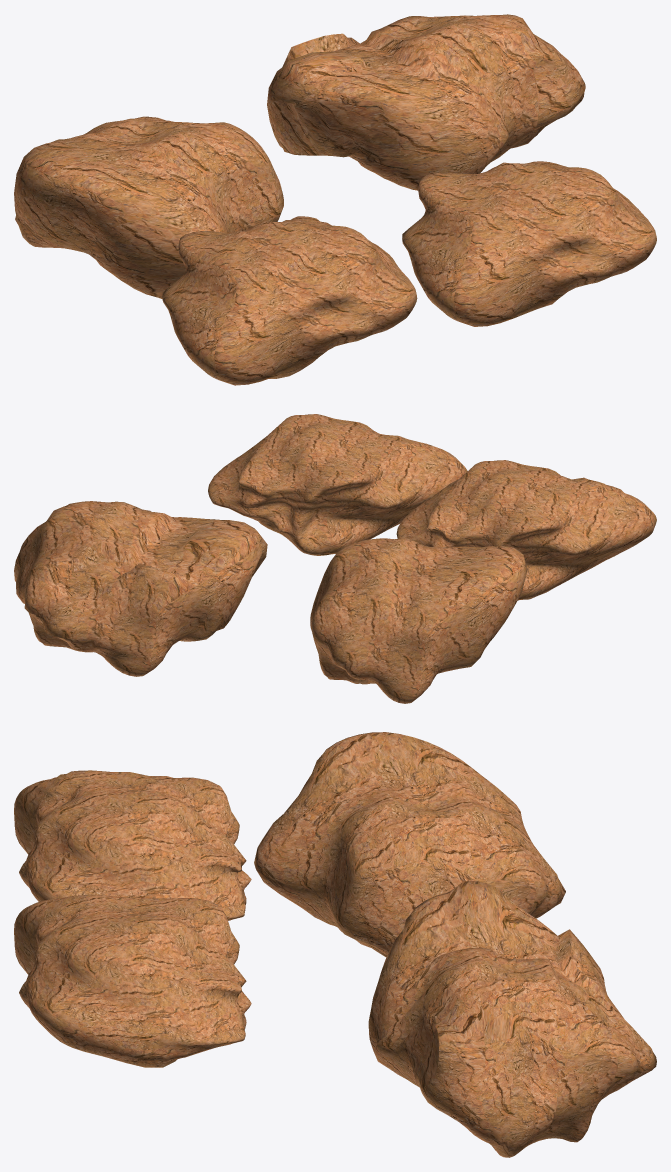
File: Rock.fbx
3 views of the same model, one above another, from view 1: azimuth 30°, elevation 25°; view 2: azimuth 150°, elevation 25°; view 3: azimuth 270°, elevation 25° (orthographic). The views are drawn at different scales.
Parts seen in each view (by area): view 1: pCube4, pCube1, pCube2, pCube3; view 2: pCube4, pCube1, pCube3, pCube2; view 3: pCube4, pCube1, pCube3, pCube2.
Part boxes in pixels (<box>): pCube4: <box>267,14,585,190</box>; pCube1: <box>14,116,283,299</box>; pCube2: <box>162,216,417,385</box>; pCube3: <box>402,161,656,326</box>; pCube4: <box>14,501,267,676</box>; pCube1: <box>310,538,526,703</box>; pCube3: <box>208,414,467,555</box>; pCube2: <box>396,460,656,600</box>; pCube4: <box>368,880,656,1157</box>; pCube1: <box>254,732,565,957</box>; pCube3: <box>14,894,251,1067</box>; pCube2: <box>14,770,251,920</box>.
Size of the model in its own units: 33.65 by 8.64 by 30.7.
